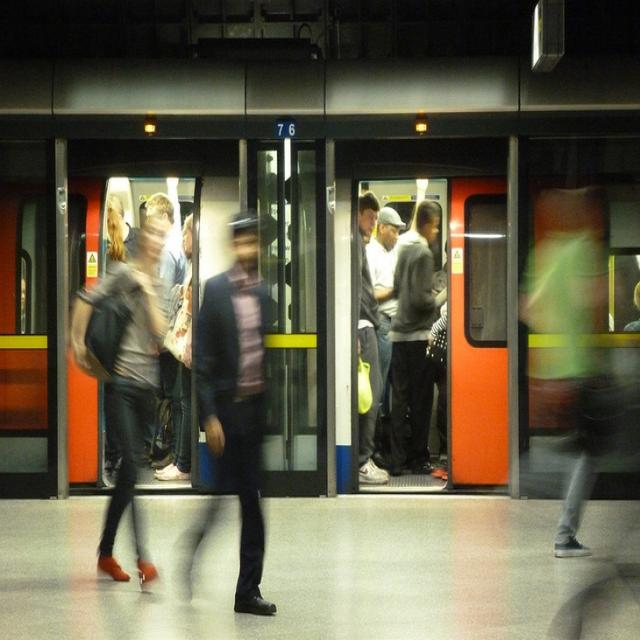body: (167, 209, 282, 619), (65, 208, 183, 600), (515, 202, 639, 561), (387, 194, 441, 474), (364, 175, 430, 401), (142, 190, 189, 471), (152, 212, 193, 482), (358, 190, 390, 486), (429, 230, 452, 482), (105, 193, 147, 286), (96, 395, 133, 480)
